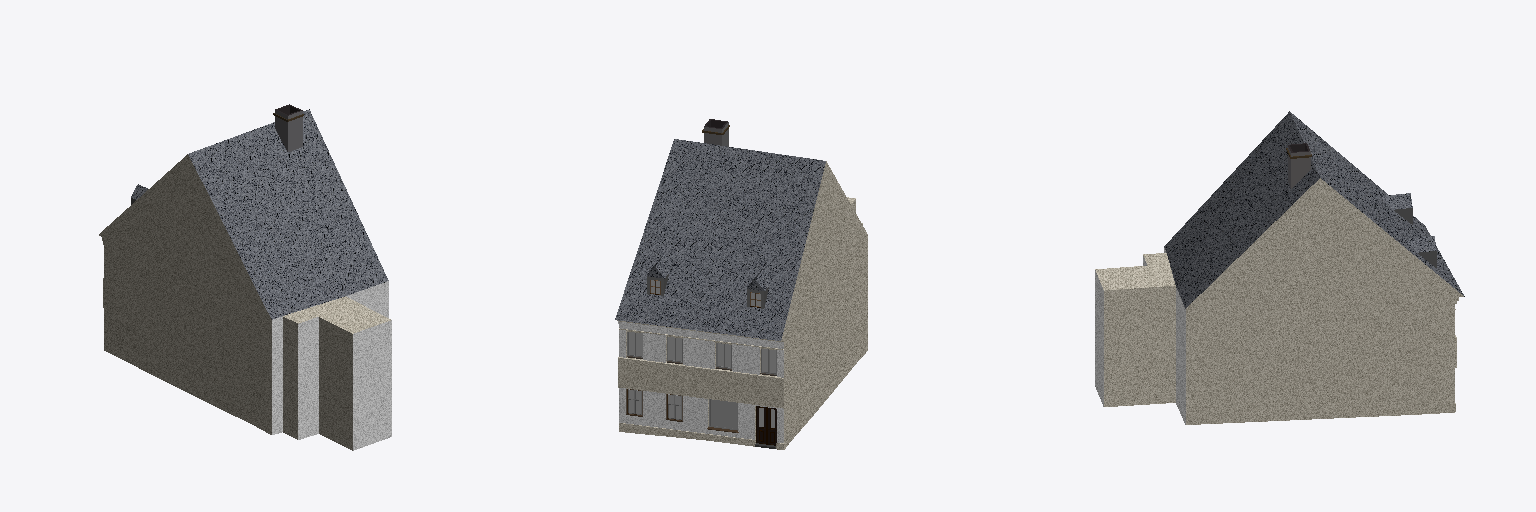
3 renders of one model, left to right at view 1: azimuth 30°, elevation 25°; view 2: azimuth 150°, elevation 25°; view 3: azimuth 270°, elevation 25°, orthographic.
Visible parts, largest first — view 1: Model; view 2: Model; view 3: Model.
Boxes of the visible parts, box(x1,y1,x2,y2) form: Model: box(99, 104, 391, 450); Model: box(615, 119, 867, 449); Model: box(1095, 111, 1464, 424).
Bounding box in the file's own units: 1 × 1.44 × 1.87.
Materials: 30 (3 with a texture image).